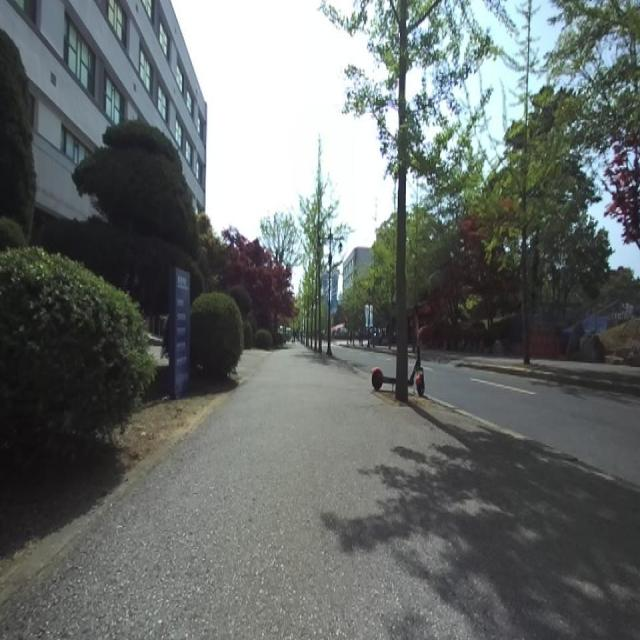sidewalk: (0, 344, 640, 639)
